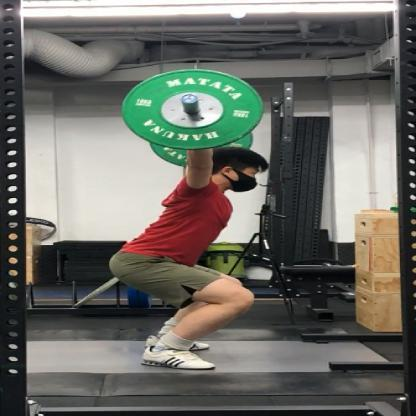barbell: (122, 70, 264, 167)
